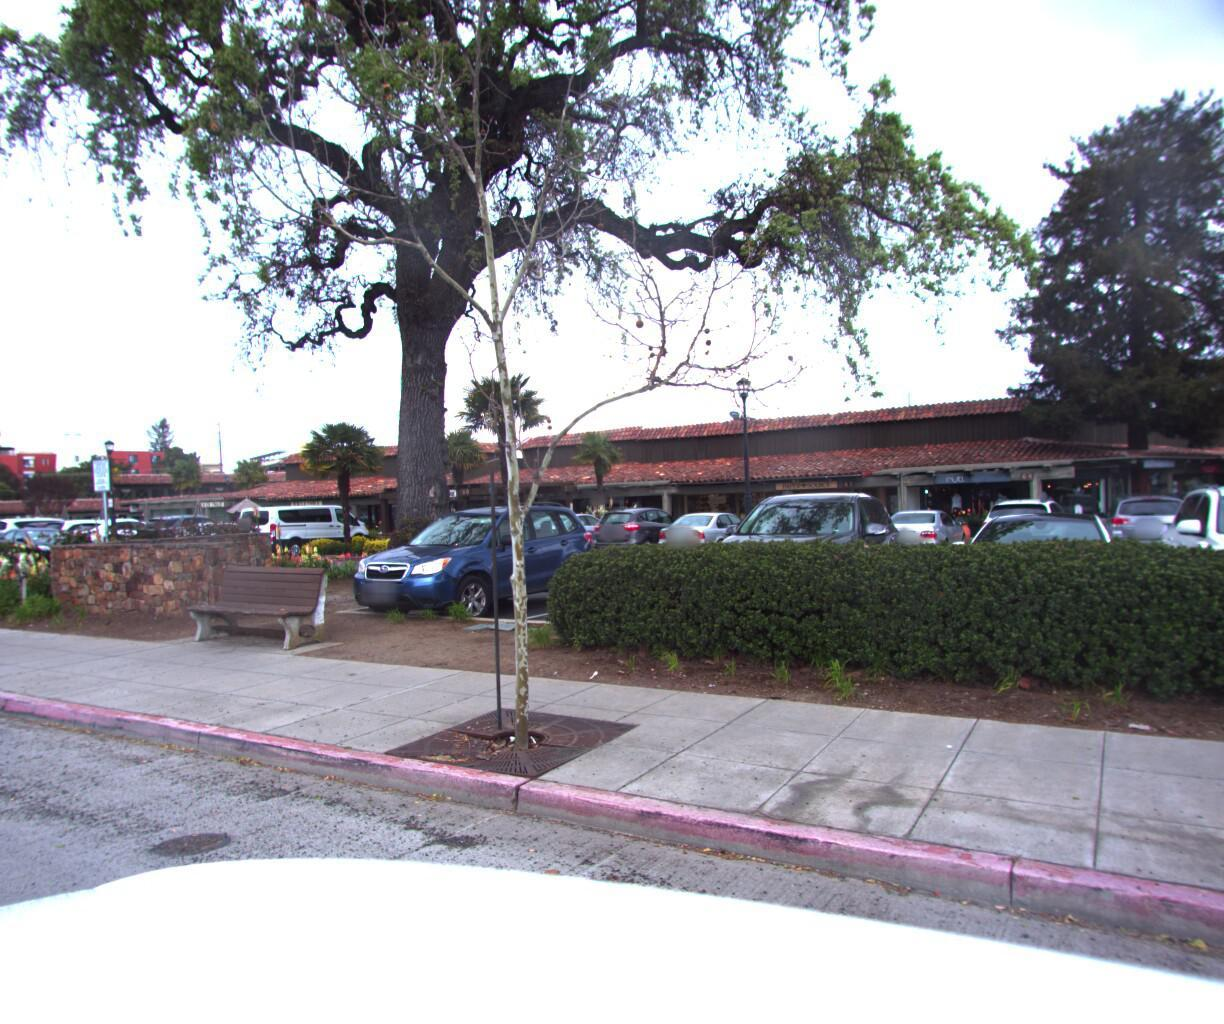car: (676, 483, 911, 651), (326, 495, 606, 633), (950, 502, 1129, 662), (1152, 459, 1224, 683)
